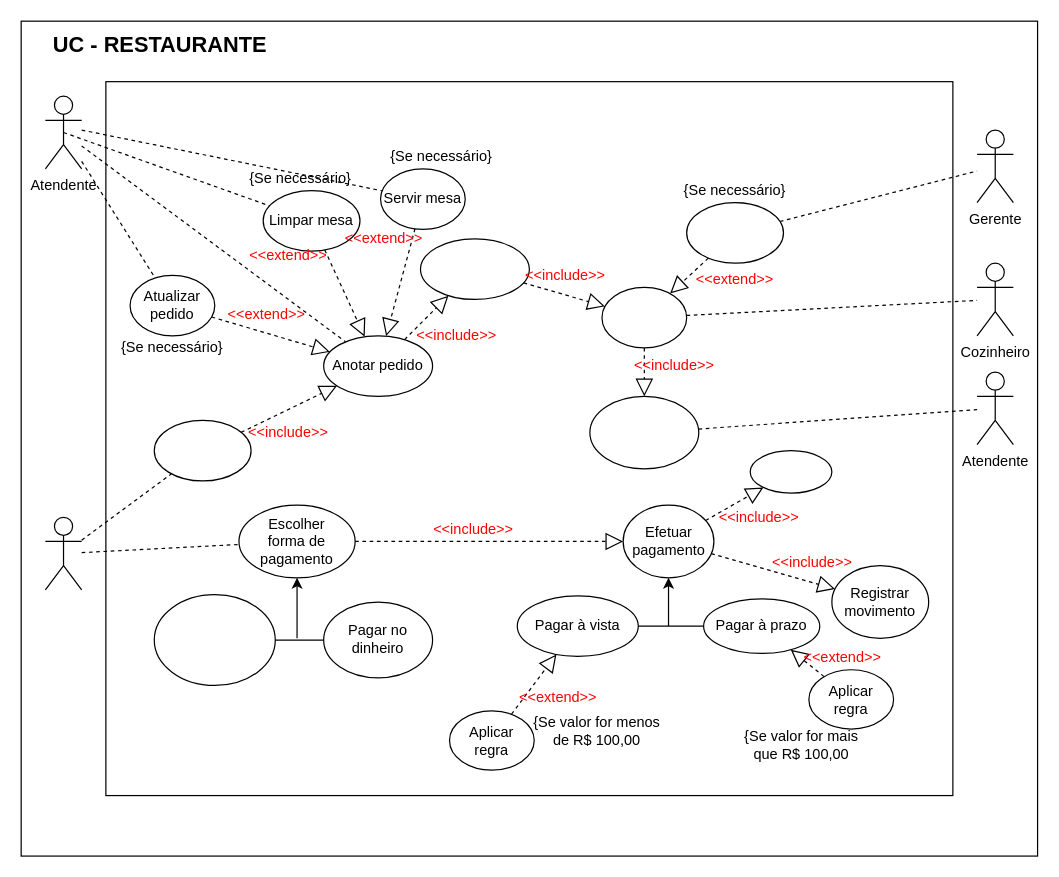
The diagram is 1059 pixels wide and 877 high, and some of its shapes have lost their labels. Here are the shapes that lost their labels. From the top down, the centre of each, then its label:
At point 734,232: "Atualizar dispensa".
At point 474,268: "Levar pedido à cozinha".
At point 644,317: "Preparar Prato".
At point 202,450: "Fazer Pedido".
At point 644,432: "Entregar prato ao cliente".
At point 790,471: "Gerar NF".
At point 63,553: "Cliente".
At point 214,639: "Pagar no cartão de crédito ou débito".
